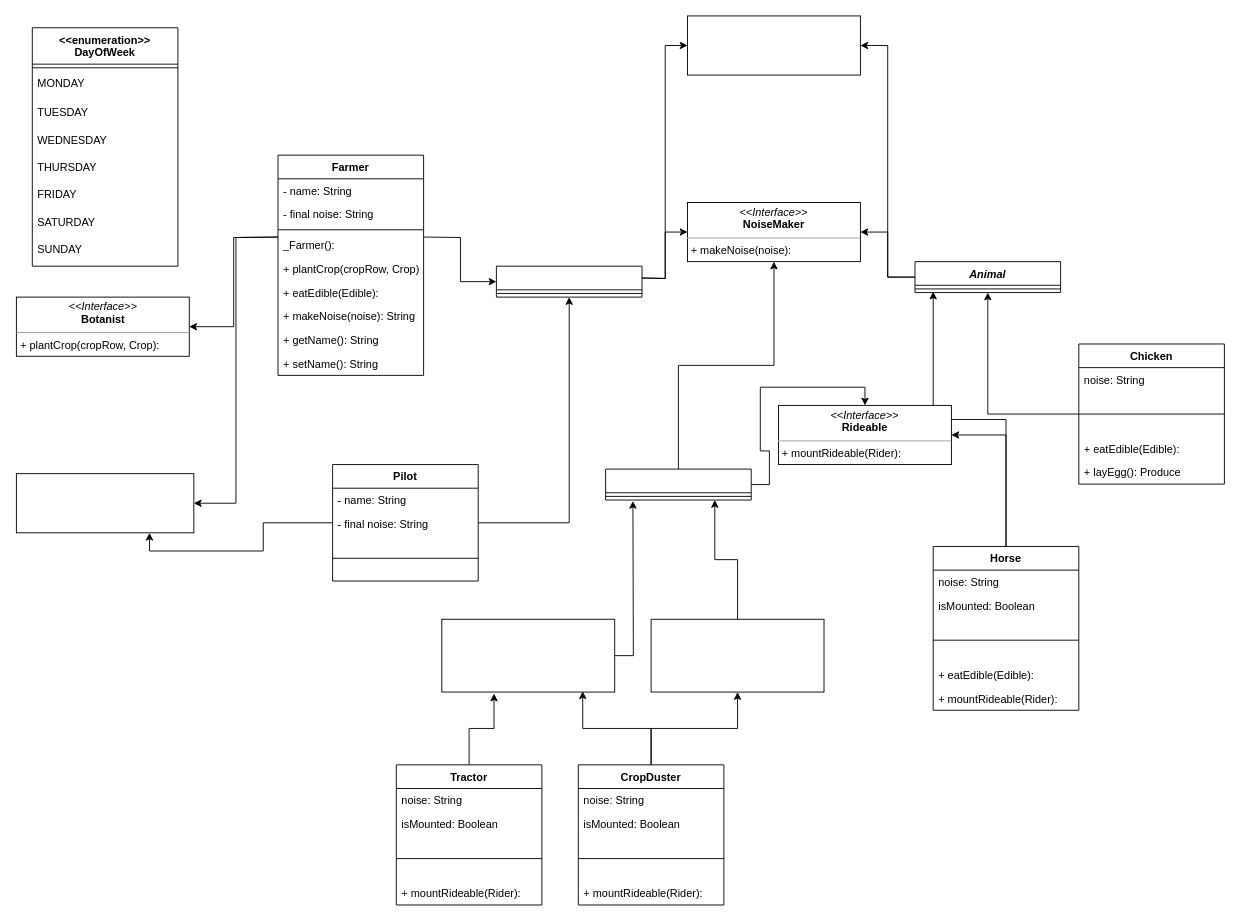
Some shapes in this 1240 by 924 pixel diagram are drawn without their labels. The centre of each missing label's shape, as x and y in pixels:
"<<Interface>> Aircraft" belongs at [737,655].
"<<Interface>> Eater + eatEdible(Edible) :" belongs at [773,45].
"<<Interface>> FarmVehicle" belongs at [528,655].
"<<Interface>> Rider + mountRideable(Rider):" belongs at [104,503].
"Person" belongs at [568,281].
"Vehicle" belongs at [678,484].
